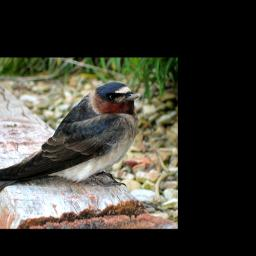Swallow: (0, 79, 144, 195)
